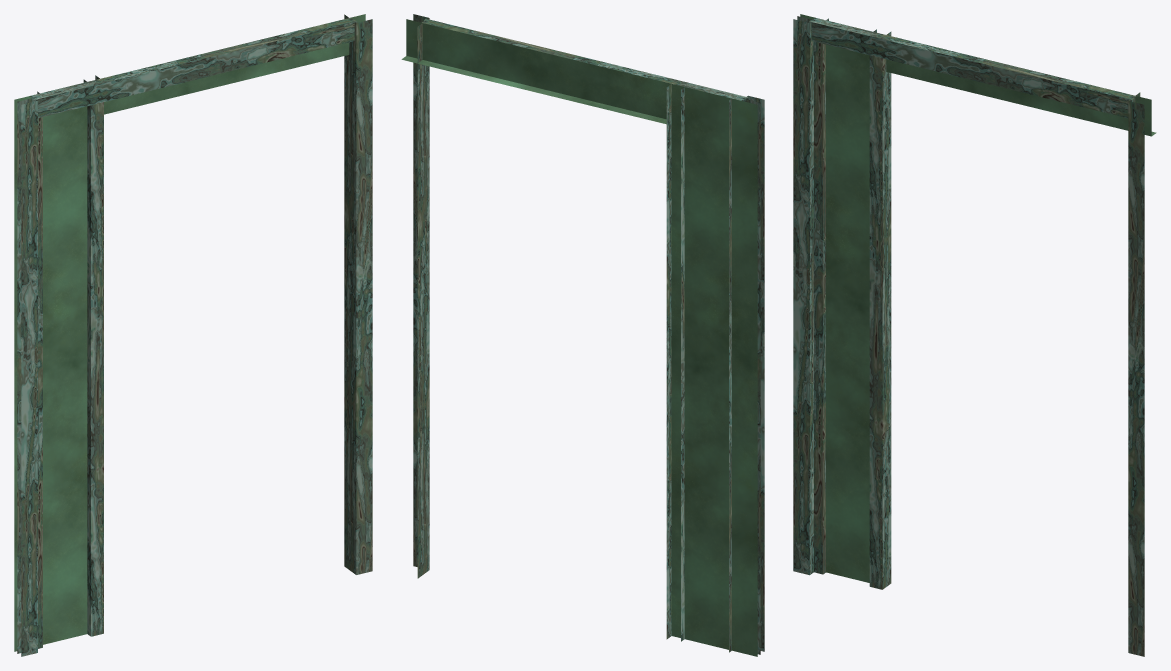
Rendered from DoorFrame_Wooden.FBX.
3 renders of one model, left to right at view 1: azimuth 30°, elevation 25°; view 2: azimuth 150°, elevation 25°; view 3: azimuth 330°, elevation 25°, orthographic.
Parts seen in each view (by area): view 1: Object046; view 2: Object046; view 3: Object046.
Boxes of the visible parts, x1,y1,x2,y2 form: Object046: (14, 14, 372, 656); Object046: (401, 14, 764, 656); Object046: (793, 14, 1156, 656).
Bounding box in the file's own units: 200 × 300 × 11.83.
